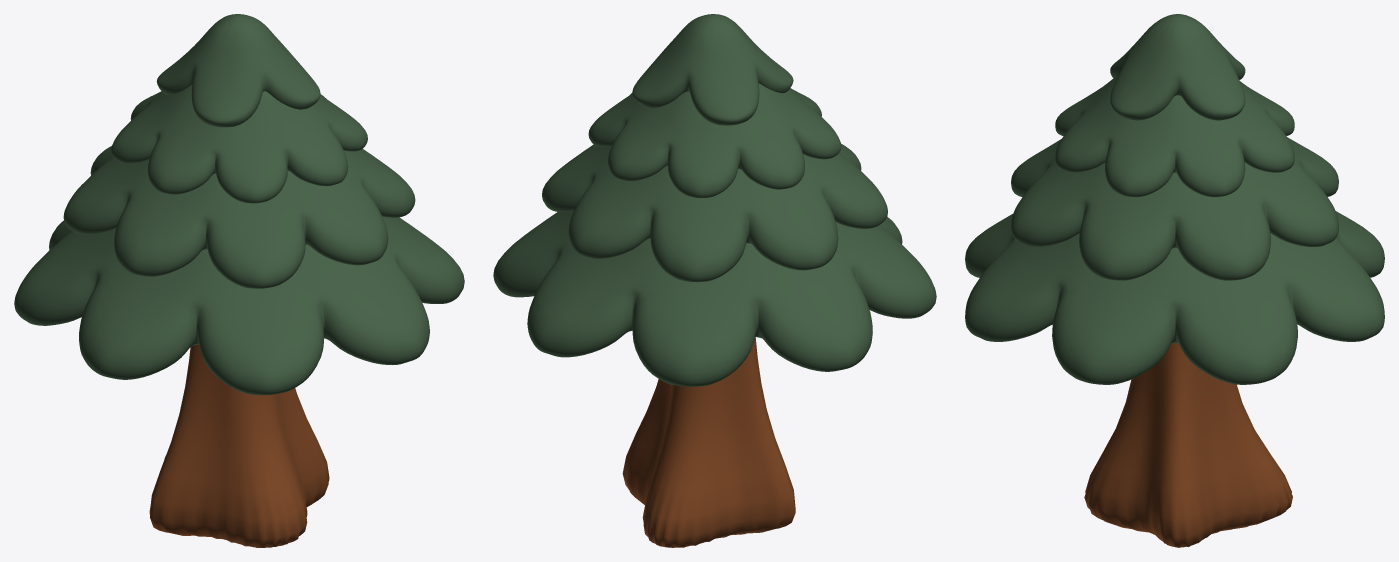
Rendered from tree-thick.glb.
The picture shows the model from 3 angles, left to right: view 1: azimuth 30°, elevation 25°; view 2: azimuth 150°, elevation 25°; view 3: azimuth 270°, elevation 25°; orthographic projection.
Parts seen in each view (by area): view 1: Leaf 1, Leaf 2, Stem, Leaf 2.002, Leaf 3; view 2: Leaf 1, Leaf 2, Stem, Leaf 2.002, Leaf 3; view 3: Leaf 1, Leaf 2, Stem, Leaf 2.002, Leaf 3.
Part boxes in pixels (x1,y1,x2,y2): Leaf 1: (14,216,464,395); Leaf 2: (63,146,415,288); Stem: (149,344,329,547); Leaf 2.002: (111,85,367,203); Leaf 3: (156,14,320,127); Leaf 1: (493,211,936,386); Leaf 2: (542,143,887,282); Stem: (622,337,795,547); Leaf 2.002: (588,83,841,197); Leaf 3: (632,14,793,125); Leaf 1: (965,211,1384,384); Leaf 2: (1011,137,1338,280); Stem: (1084,343,1292,547); Leaf 2.002: (1055,76,1294,197); Leaf 3: (1110,14,1245,120).
Bounding box in the file's own units: 0.4846 × 0.6512 × 0.4846.
